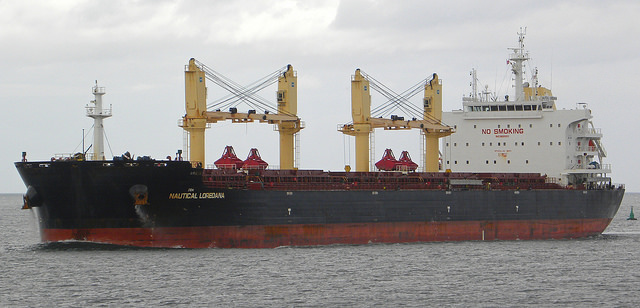bulk carrier: (14, 23, 624, 243)
